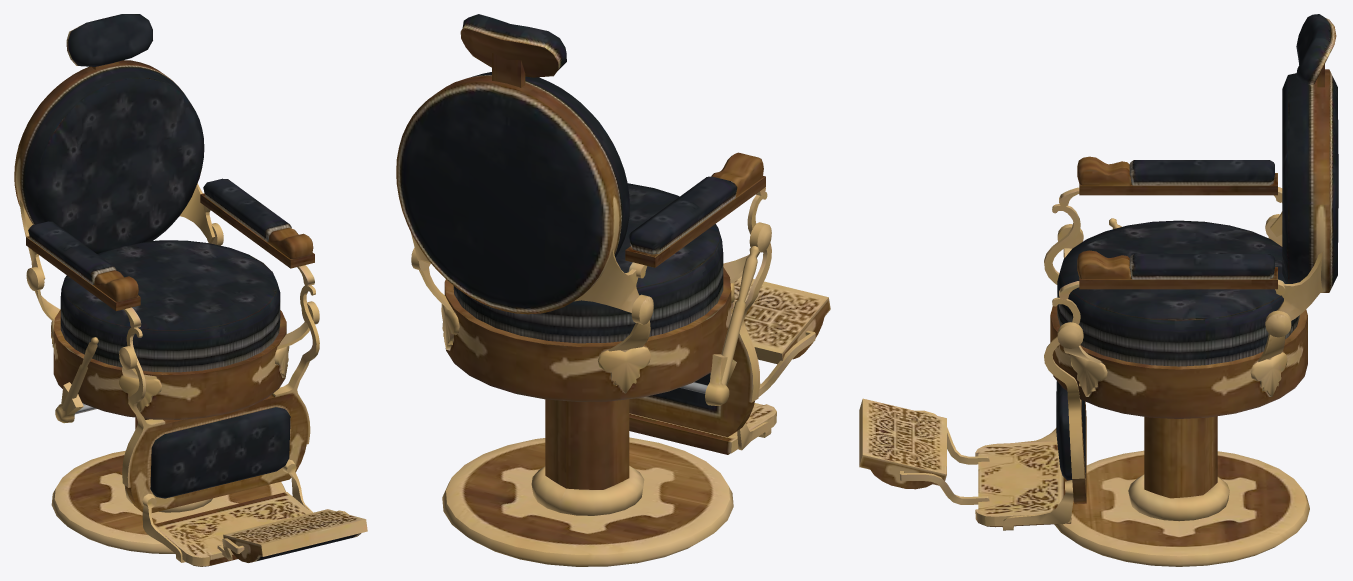
File: fauteuil.glb
3 renders of one model, left to right at view 1: azimuth 30°, elevation 25°; view 2: azimuth 150°, elevation 25°; view 3: azimuth 270°, elevation 25°, orthographic. The views are drawn at different scales.
Visible parts, largest first — view 1: BarberShopChair_01; view 2: BarberShopChair_01; view 3: BarberShopChair_01.
Part boxes in pixels (<box>): BarberShopChair_01: <box>14,14,367,566</box>; BarberShopChair_01: <box>396,14,830,566</box>; BarberShopChair_01: <box>859,14,1338,566</box>.
Size of the model in its own units: 0.7566 by 1.49 by 1.33.
Materials: 1 (1 with a texture image).
